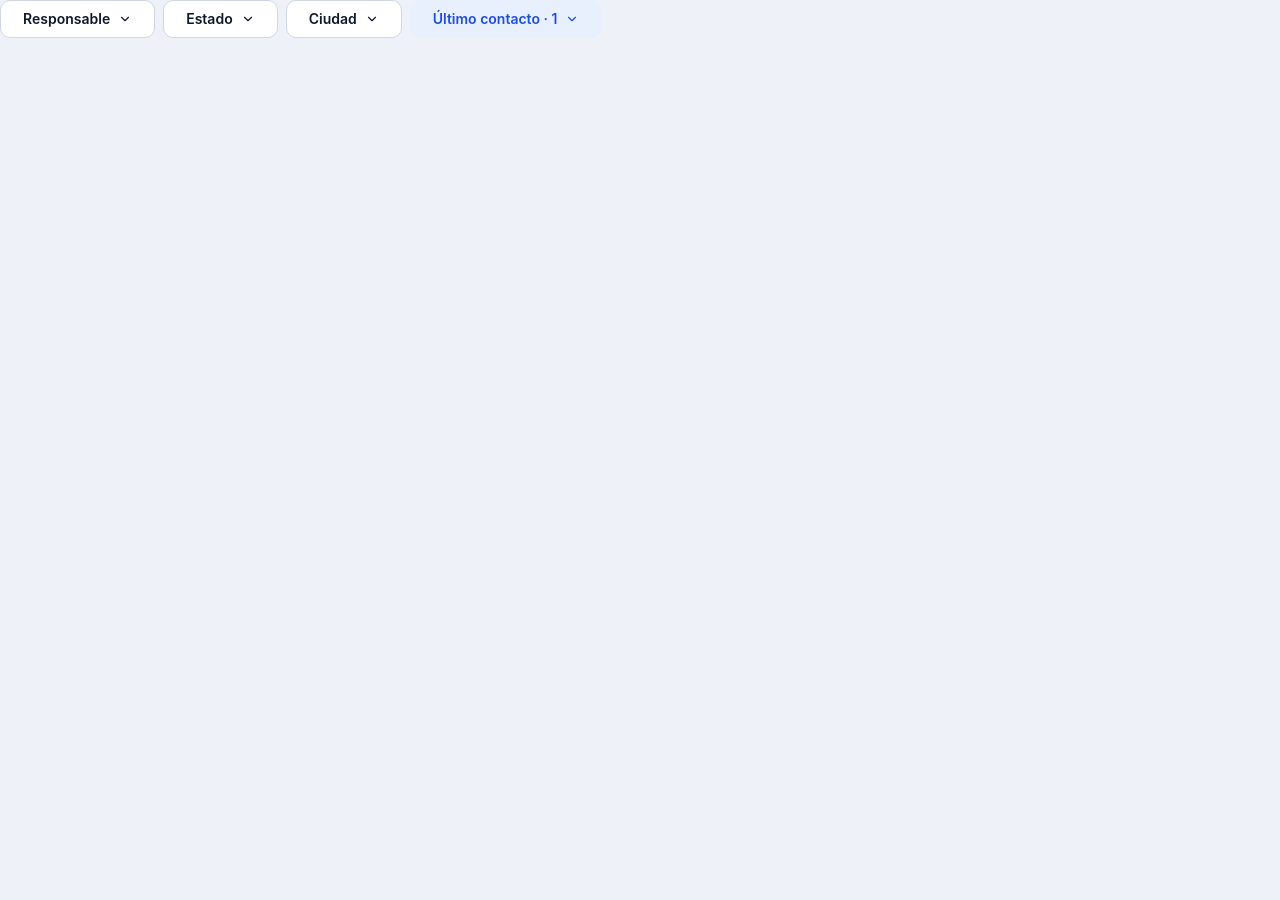
Test: BusinessQuickFilters ownership after the generalisation › keeps a builder «before» rule on Último contacto as foreign
Click the button "Último contacto · 1".
click(506, 19)  # box [410,0,602,38]
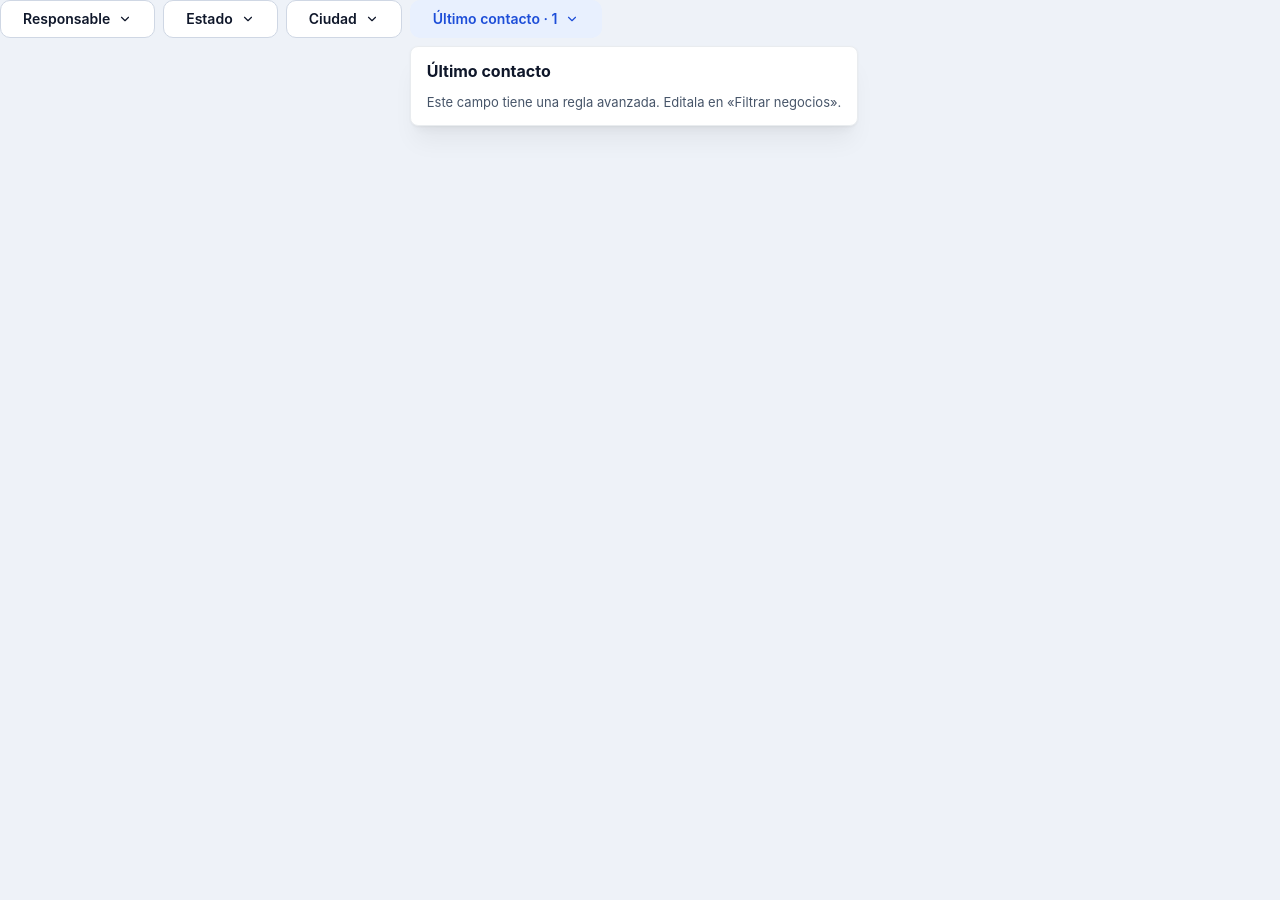
Result: the text "Editala en «Filtrar negocios»" is shown at [427,93,841,112]
